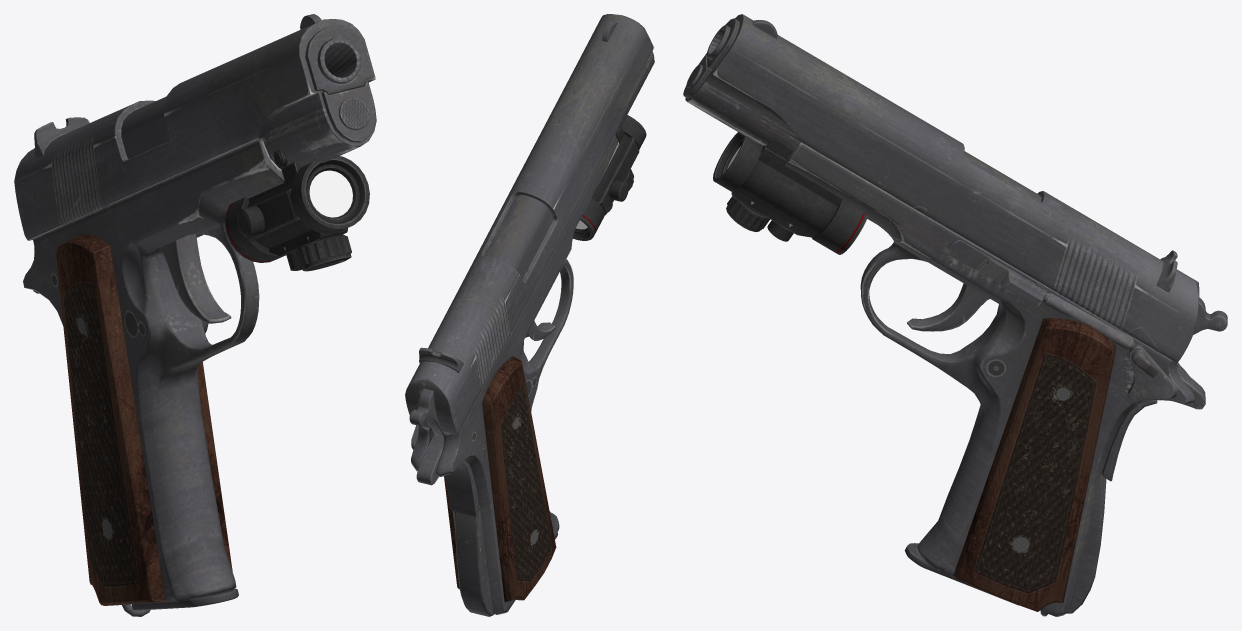
Rendered from mdlM19Pickup Variant.fbx.
3 views of the same model, side by side, from view 1: azimuth 30°, elevation 25°; view 2: azimuth 150°, elevation 25°; view 3: azimuth 270°, elevation 25° (orthographic). The views are drawn at different scales.
Parts seen in each view (by area): view 1: Model, LaserSight; view 2: Model, LaserSight; view 3: Model, LaserSight.
Part boxes in pixels (bbox=[...]): Model: bbox=[14, 14, 376, 616]; LaserSight: bbox=[225, 150, 369, 271]; Model: bbox=[405, 14, 654, 616]; LaserSight: bbox=[573, 115, 646, 240]; Model: bbox=[683, 14, 1227, 616]; LaserSight: bbox=[713, 132, 867, 254].
Size of the model in its own units: 29.5 by 216 by 179.
